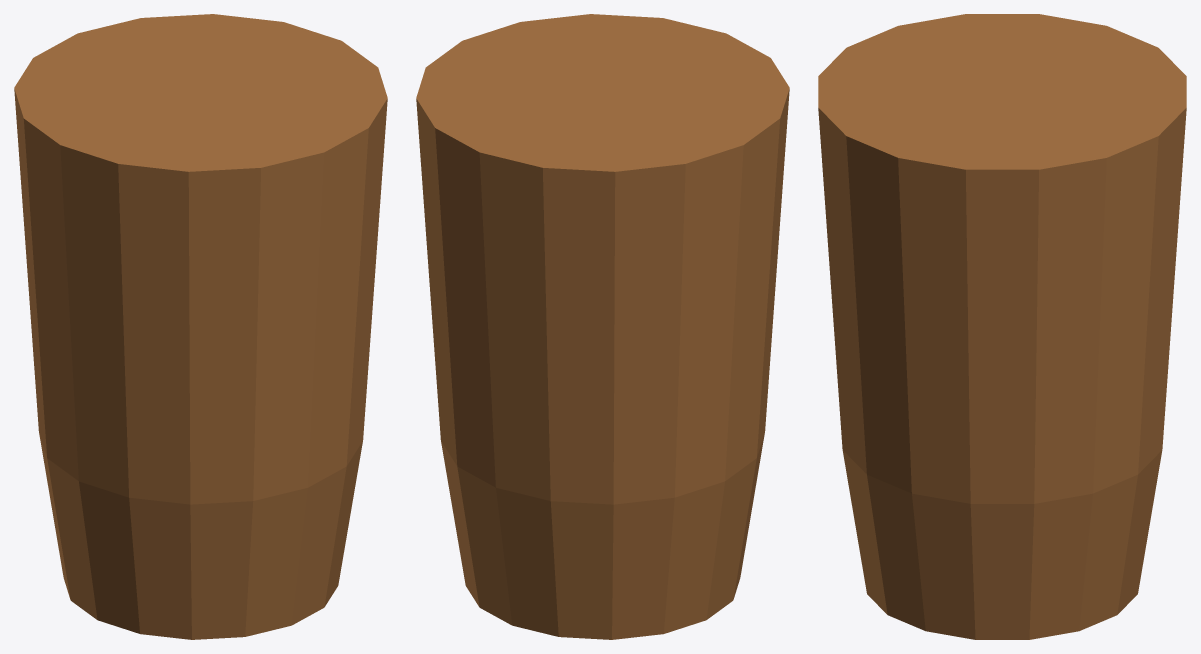
Rendered from SM_Cook_CupFill_01.fbx.
3 renders of one model, left to right at view 1: azimuth 30°, elevation 25°; view 2: azimuth 150°, elevation 25°; view 3: azimuth 270°, elevation 25°, orthographic.
Parts seen in each view (by area): view 1: SM_Cook_CupFill_01; view 2: SM_Cook_CupFill_01; view 3: SM_Cook_CupFill_01.
Part boxes in pixels (<box>): SM_Cook_CupFill_01: <box>14,14,387,639</box>; SM_Cook_CupFill_01: <box>416,14,789,639</box>; SM_Cook_CupFill_01: <box>818,14,1186,639</box>.
Size of the model in its own units: 0.0776 by 0.114 by 0.0776.
Materials: 1 (1 with a texture image).
